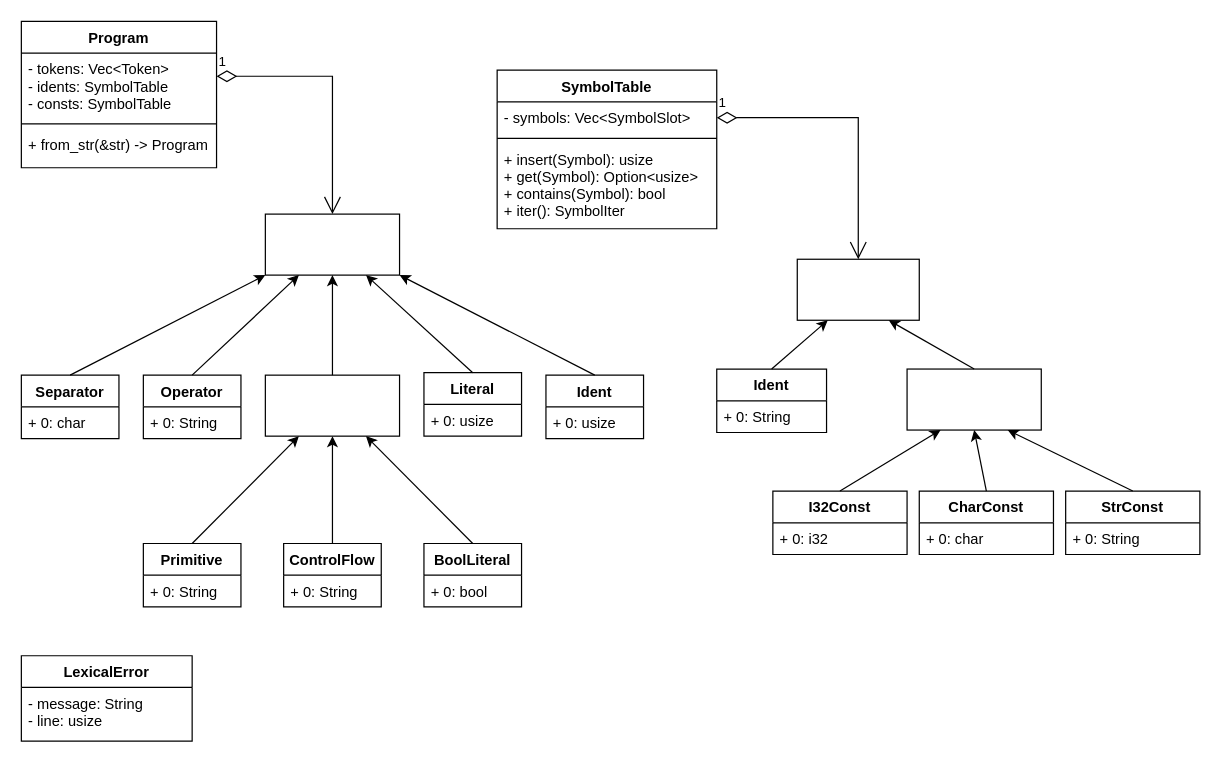
Image size: 1221x766. Some labels were removed from this diagram. Here are the shapes that lost their labels. From the top down, the centre of each, then its label:
At (332,244): "«interface» Token".
At (857,289): "«interface» Symbol".
At (332,405): "«interface» ReservedWord".
At (973,399): "«interface» Const".
